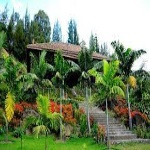House: (27, 40, 108, 77)
Uncultivated: (4, 36, 147, 143)
